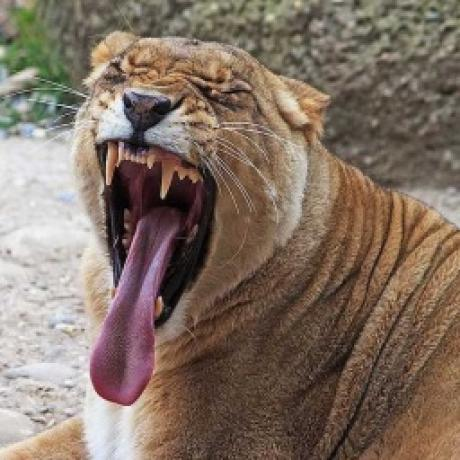Lion: (59, 21, 459, 460)
